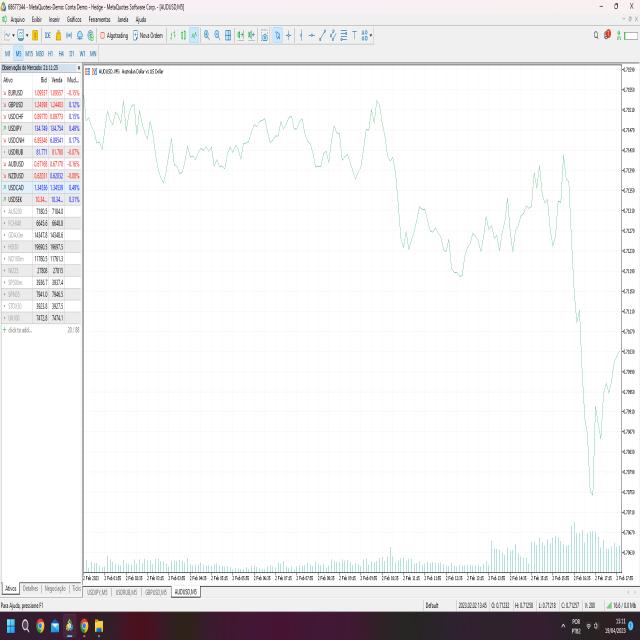oco: (314, 83, 356, 196)
